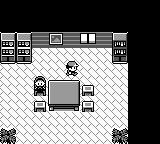leer: (49, 33, 63, 45)
main: (66, 61, 79, 75)
no-caminable: (0, 0, 159, 143), (49, 80, 81, 111), (0, 33, 31, 63), (63, 31, 112, 48), (112, 34, 128, 63), (32, 31, 49, 48), (0, 128, 17, 144), (112, 128, 129, 144)
npc: (34, 76, 46, 92)
